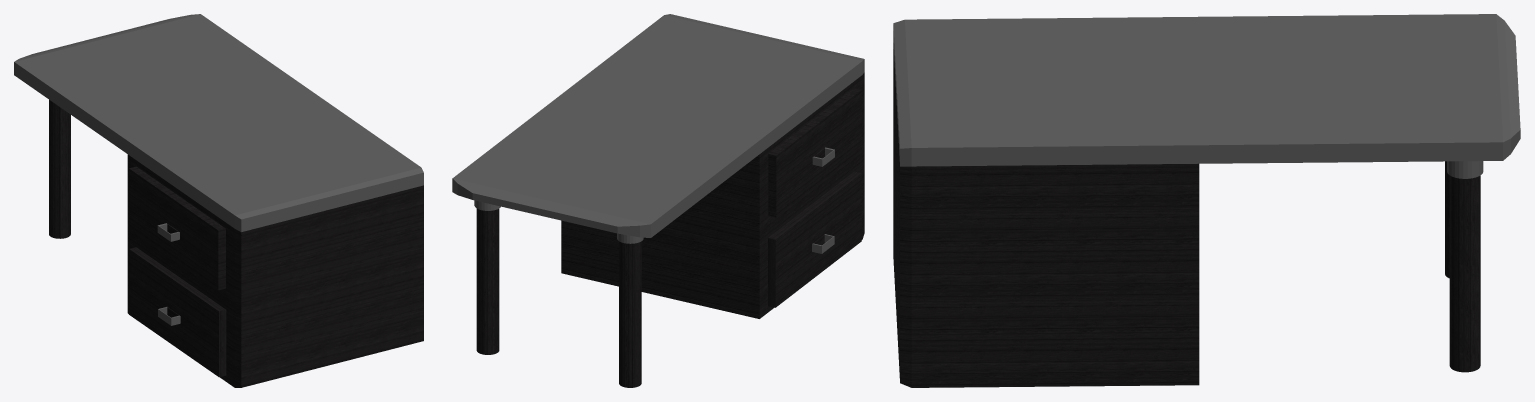
File: mesa2.fbx
3 views of the same model, side by side, from view 1: azimuth 30°, elevation 25°; view 2: azimuth 150°, elevation 25°; view 3: azimuth 270°, elevation 25° (orthographic). The views are drawn at different scales.
Visible parts, largest first — view 1: table2:Mesh; view 2: table2:Mesh; view 3: table2:Mesh.
Boxes of the visible parts, x1,y1,x2,y2 form: table2:Mesh: (14, 14, 423, 387); table2:Mesh: (452, 14, 864, 387); table2:Mesh: (893, 14, 1520, 387).
Bounding box in the file's own units: 3.28 × 2.59 × 6.14.
2 materials, 1 textured.
